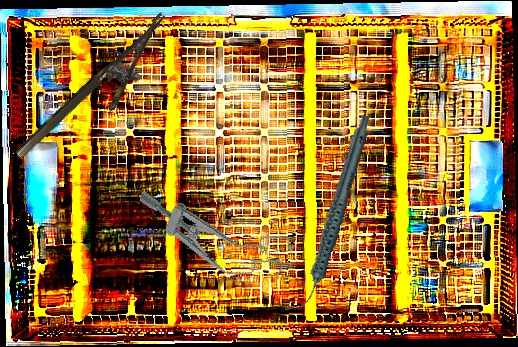Handpiece: (259, 113, 409, 313)
Needle Holder: (12, 11, 189, 179)
Speculum: (125, 178, 298, 295)
